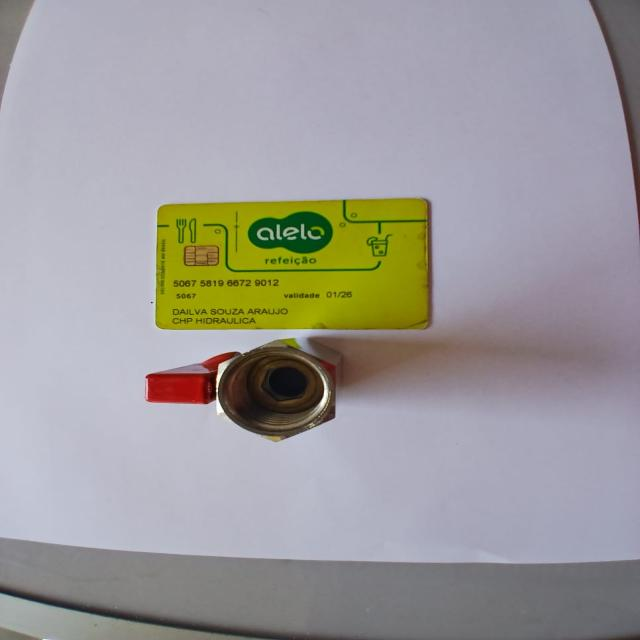cartao: (154, 198, 433, 329)
rosca_interna: (145, 344, 371, 443)
